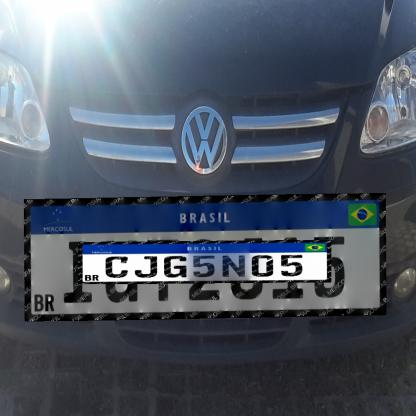PlacaM: (24, 193, 386, 322), (78, 240, 331, 284)
